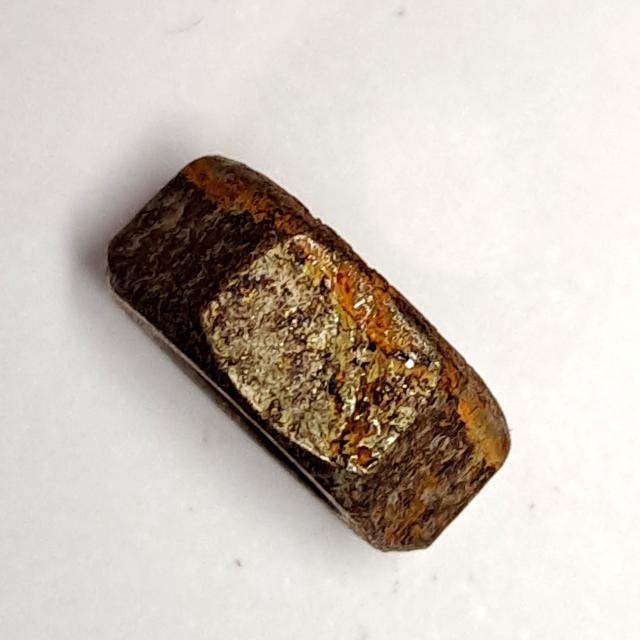Side_Rust: (87, 139, 535, 569)
